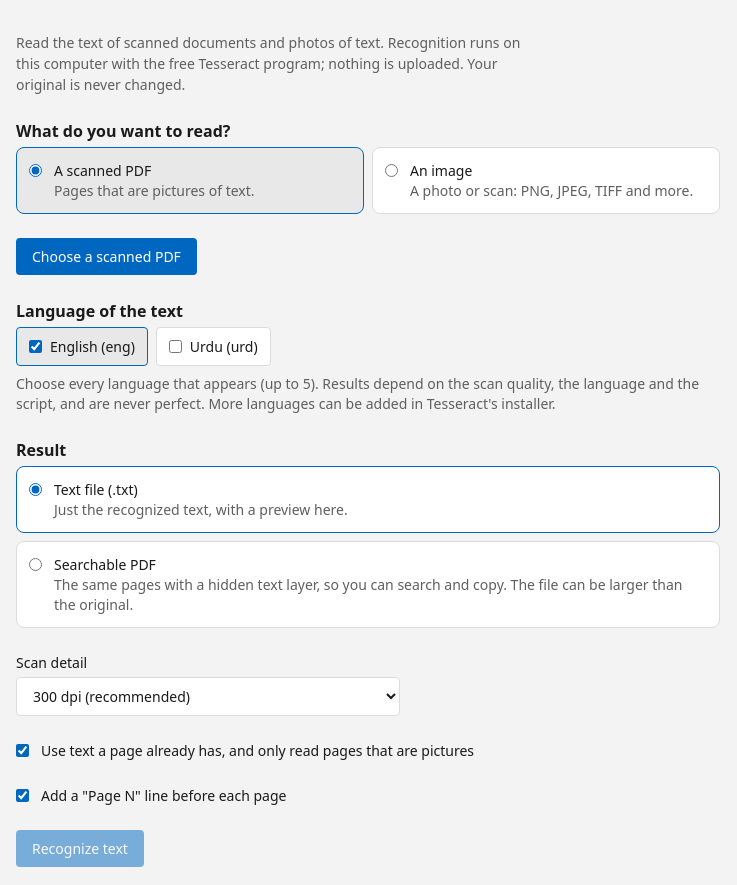
Test: OCR page › blocks a page range that is outside the document
Expected: the checkbox labelled "English (eng)" is shown, [29,340,42,353]
Click the button "Choose a scanned PDF" at (106, 256), box [16,238,197,275]
(page scrolled)
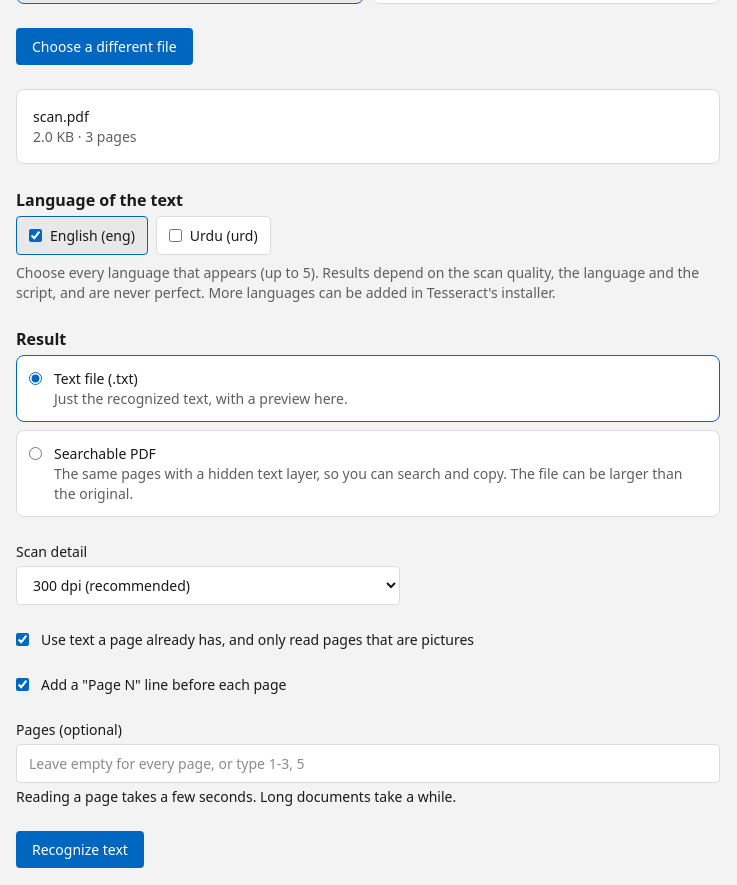
Type "9" into the field labelled "Pages (optional)" at (368, 764), box [16,744,720,783]
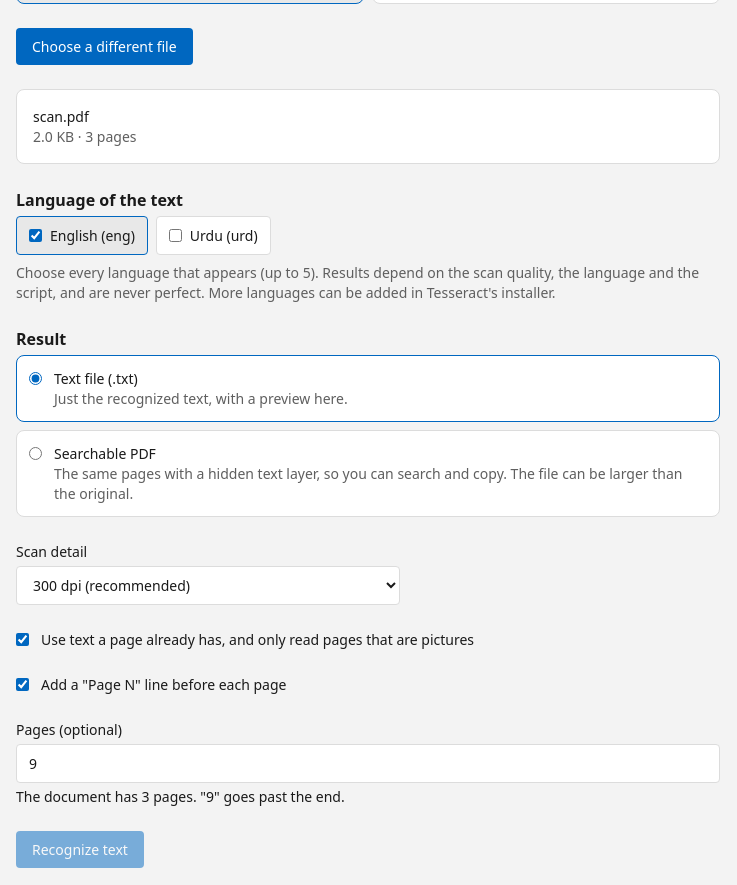
Expected: the message shows "goes past the end", [16,787,345,806]
Expected: the button "Recognize text" is disabled, [16,831,144,868]
